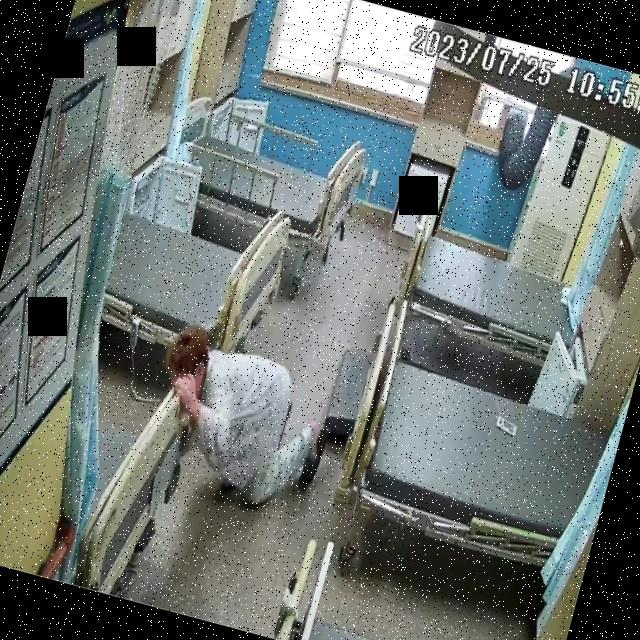bed: (348, 347, 618, 576), (88, 170, 300, 385), (158, 92, 368, 257), (390, 206, 596, 370)
fall: (136, 323, 344, 520)
patient: (136, 324, 344, 519)
